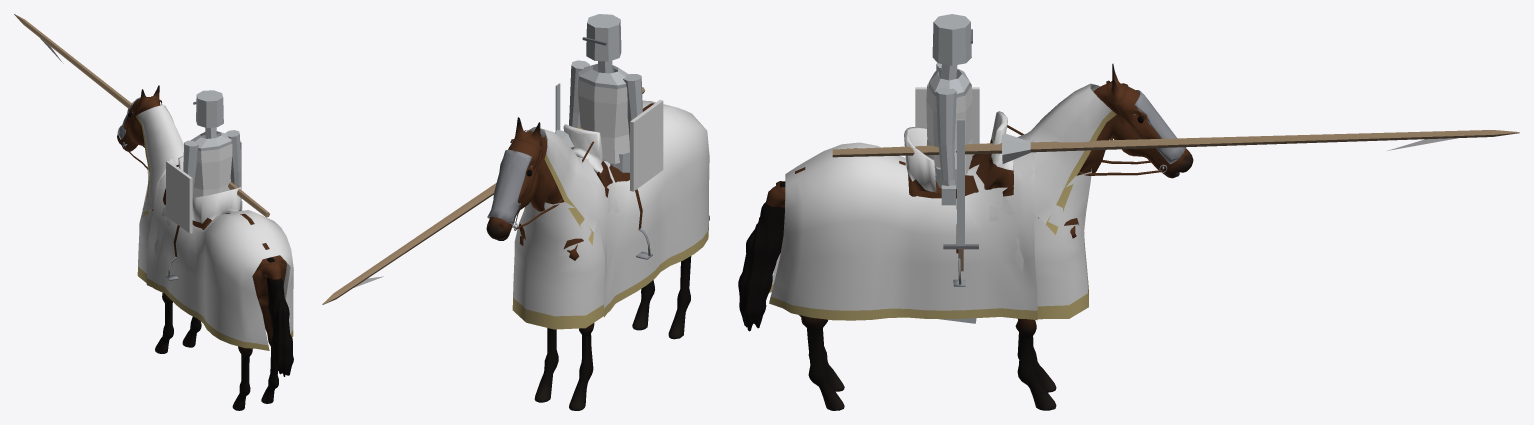
File: cavalry_hx_med_knight_lod0.glb
3 renders of one model, left to right at view 1: azimuth 30°, elevation 25°; view 2: azimuth 150°, elevation 25°; view 3: azimuth 270°, elevation 25°, orthographic. The views are drawn at different scales.
Visible parts, largest first — view 1: hx_med_knight_lod0; view 2: hx_med_knight_lod0; view 3: hx_med_knight_lod0.
Part boxes in pixels (x1,y1,x2,y2): hx_med_knight_lod0: [14, 14, 293, 410]; hx_med_knight_lod0: [322, 14, 709, 410]; hx_med_knight_lod0: [738, 14, 1519, 410].
Bounding box in the file's own units: 0.6938 × 2.33 × 4.38.
